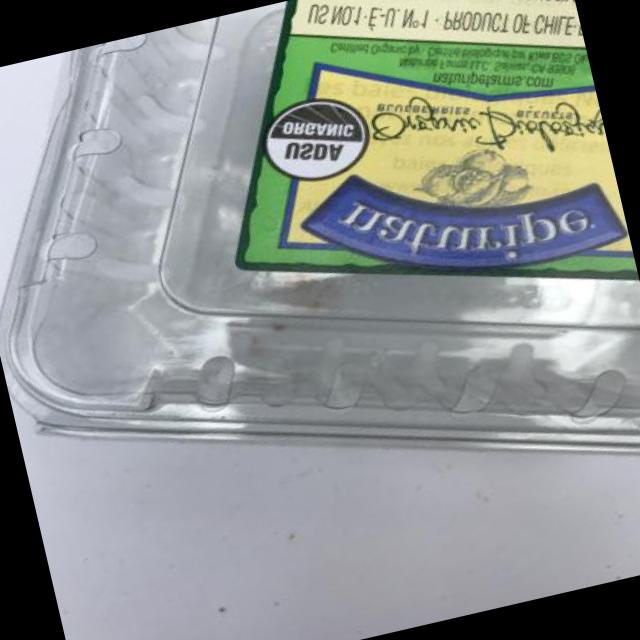Clamshell: (0, 0, 640, 601)
Label: (160, 0, 640, 375)
